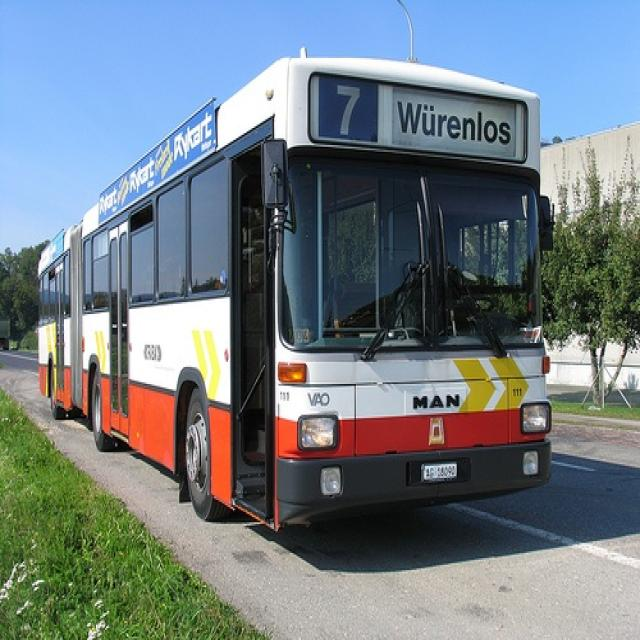bus: (41, 49, 553, 531)
